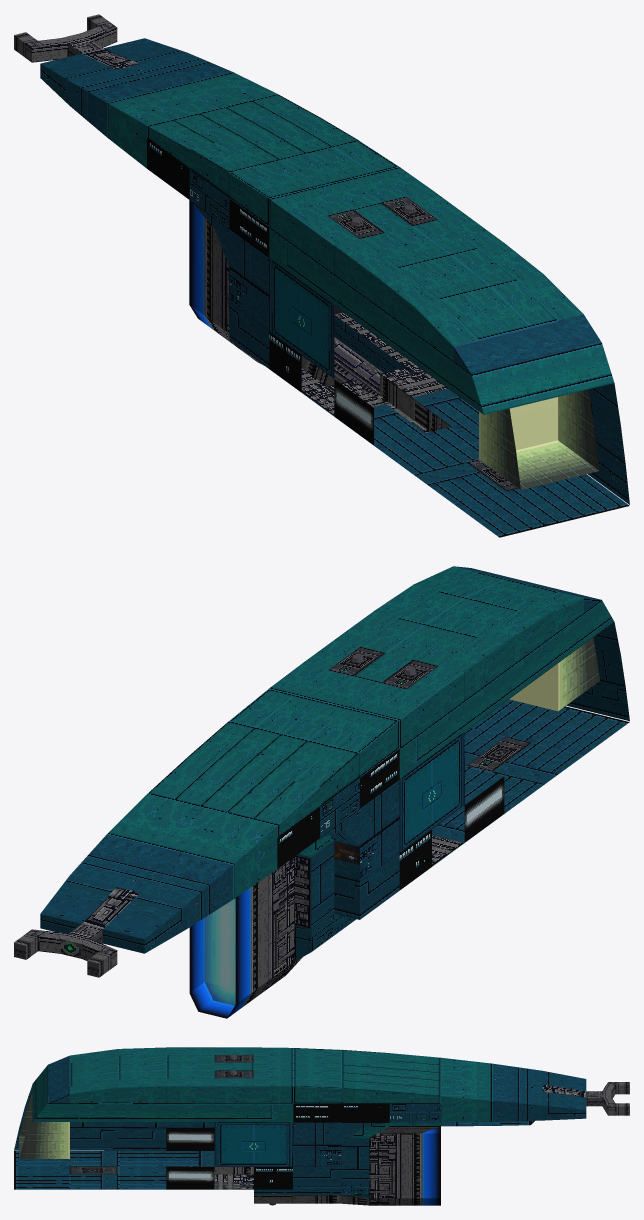
Rendered from HAUROB.obj.
3 renders of one model, top to bottom at view 1: azimuth 30°, elevation 25°; view 2: azimuth 150°, elevation 25°; view 3: azimuth 270°, elevation 25°, orthographic. The views are drawn at different scales.
Parts seen in each view (by area): view 1: Object_0, Object_5, Object_1, Object_4; view 2: Object_0, Object_5, Object_1, Object_4; view 3: Object_0, Object_5, Object_1, Object_4.
Boxes of the visible parts, <box> form: Object_0: <box>229,141,629,504</box>; Object_5: <box>14,14,359,266</box>; Object_1: <box>204,163,629,537</box>; Object_4: <box>189,200,212,329</box>; Object_0: <box>230,566,629,919</box>; Object_5: <box>14,720,359,977</box>; Object_1: <box>204,699,629,1007</box>; Object_4: <box>189,887,250,1018</box>; Object_0: <box>14,1047,341,1189</box>; Object_5: <box>341,1049,629,1145</box>; Object_1: <box>14,1120,534,1205</box>; Object_4: <box>422,1126,440,1205</box>.
Size of the model in its own units: 5715 by 9704 by 38562.
20 materials, 20 textured.
